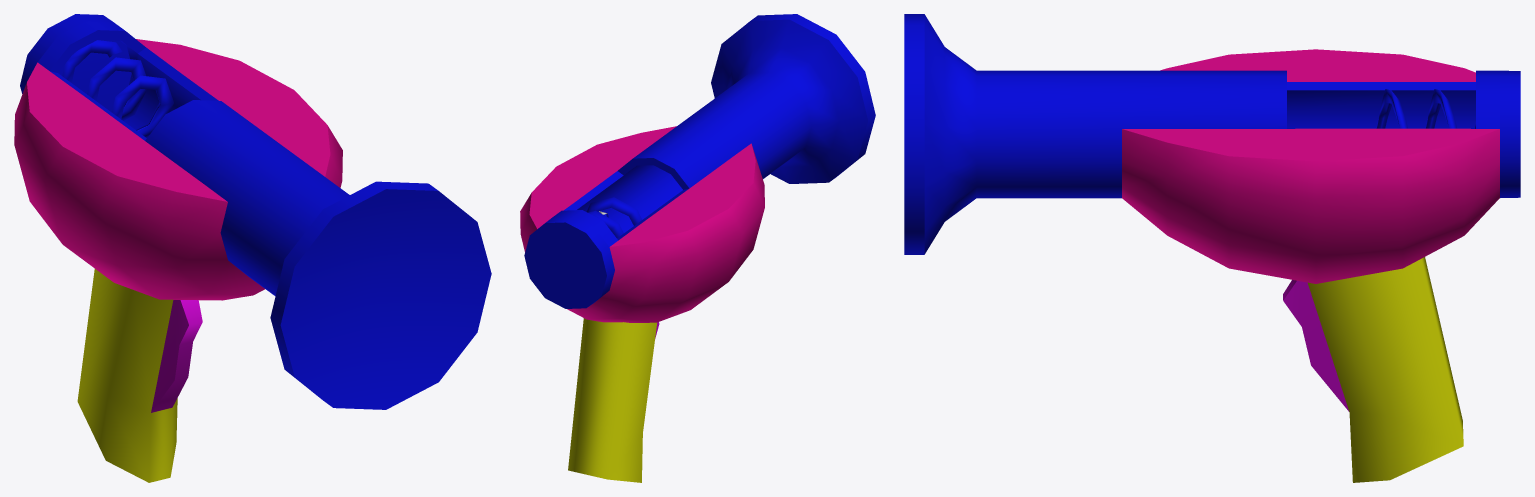
Rendered from PeaShooter.fbx.
The picture shows the model from 3 angles, left to right: view 1: azimuth 30°, elevation 25°; view 2: azimuth 150°, elevation 25°; view 3: azimuth 270°, elevation 25°; orthographic projection. The views are drawn at different scales.
Parts seen in each view (by area): view 1: PeaShooter; view 2: PeaShooter; view 3: PeaShooter.
Boxes of the visible parts, x1,y1,x2,y2 form: PeaShooter: [14, 14, 491, 482]; PeaShooter: [520, 14, 875, 482]; PeaShooter: [904, 14, 1520, 482].
Size of the model in its own units: 69.1 by 112 by 138.
